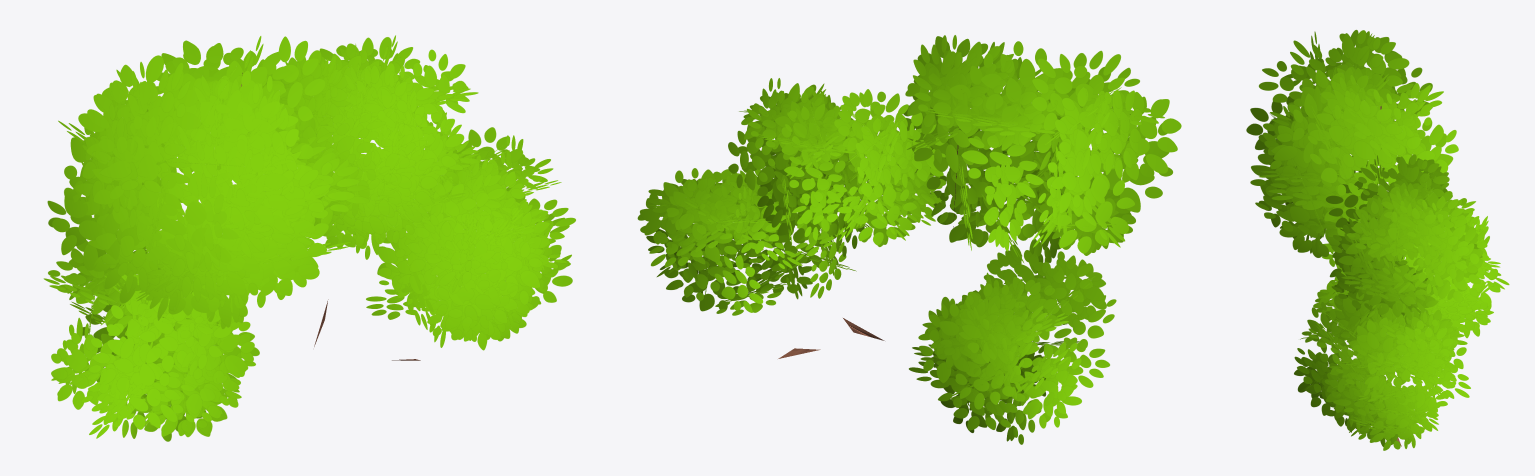
The model's file is tree_oak_c.glb.
3 renders of one model, left to right at view 1: azimuth 30°, elevation 25°; view 2: azimuth 150°, elevation 25°; view 3: azimuth 270°, elevation 25°, orthographic. The views are drawn at different scales.
Visible parts, largest first — view 1: tree_oak_c; view 2: tree_oak_c; view 3: tree_oak_c.
Boxes of the visible parts, left/top/right/bottom form: tree_oak_c: left=43, top=35, right=575, bottom=441; tree_oak_c: left=637, top=35, right=1181, bottom=444; tree_oak_c: left=1246, top=30, right=1509, bottom=450.
Bounding box in the file's own units: 5.12 × 3.92 × 3.05.
Materials: 2 (2 with a texture image).
